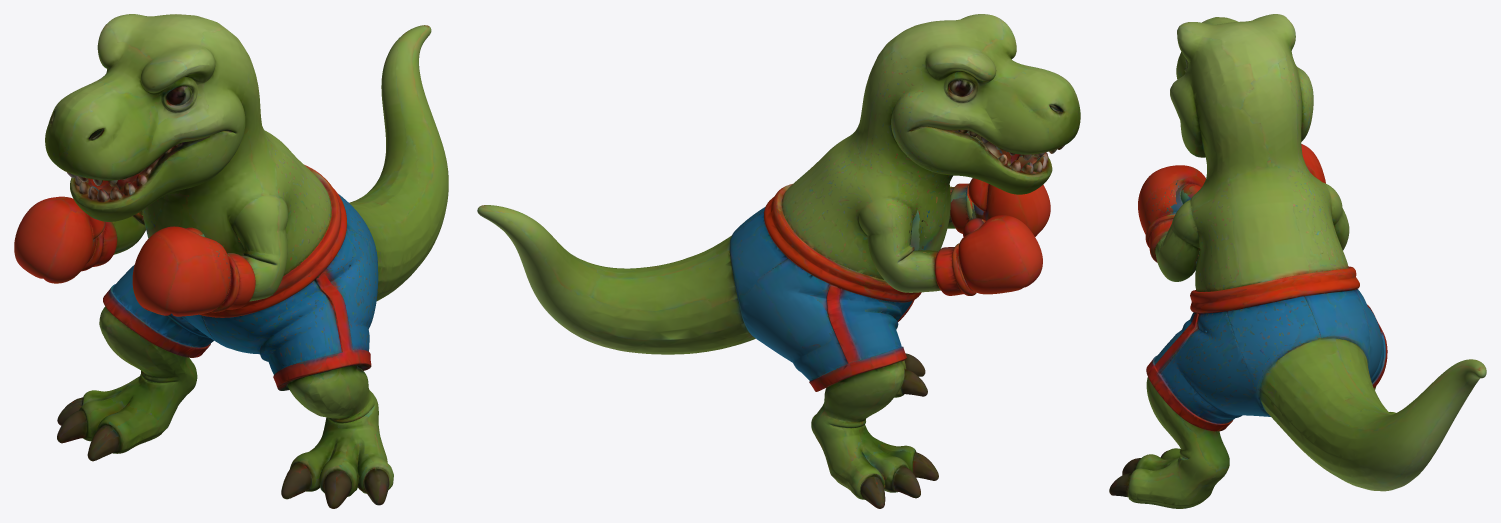
Rendered from dinosaur.glb.
3 renders of one model, left to right at view 1: azimuth 30°, elevation 25°; view 2: azimuth 150°, elevation 25°; view 3: azimuth 270°, elevation 25°, orthographic. The views are drawn at different scales.
Visible parts, largest first — view 1: texture_pbr_v128; view 2: texture_pbr_v128; view 3: texture_pbr_v128.
Part boxes in pixels (x1,y1,x2,y2): texture_pbr_v128: (14,14,448,508); texture_pbr_v128: (477,14,1080,508); texture_pbr_v128: (1109,14,1486,508).
Size of the model in its own units: 0.9808 by 0.8359 by 0.6915.
1 material, 1 textured.
